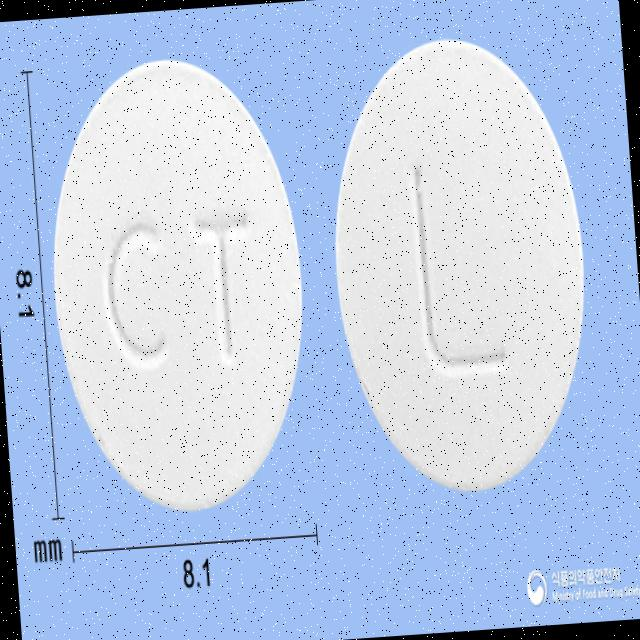Leflocin: (38, 47, 318, 521), (318, 27, 600, 495)
